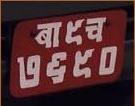0: (97, 44, 119, 78)
6: (44, 49, 69, 87)
7: (15, 53, 43, 91)
9: (72, 46, 95, 82), (64, 17, 85, 47)
ba: (32, 20, 64, 50)
cha: (85, 15, 108, 43)
